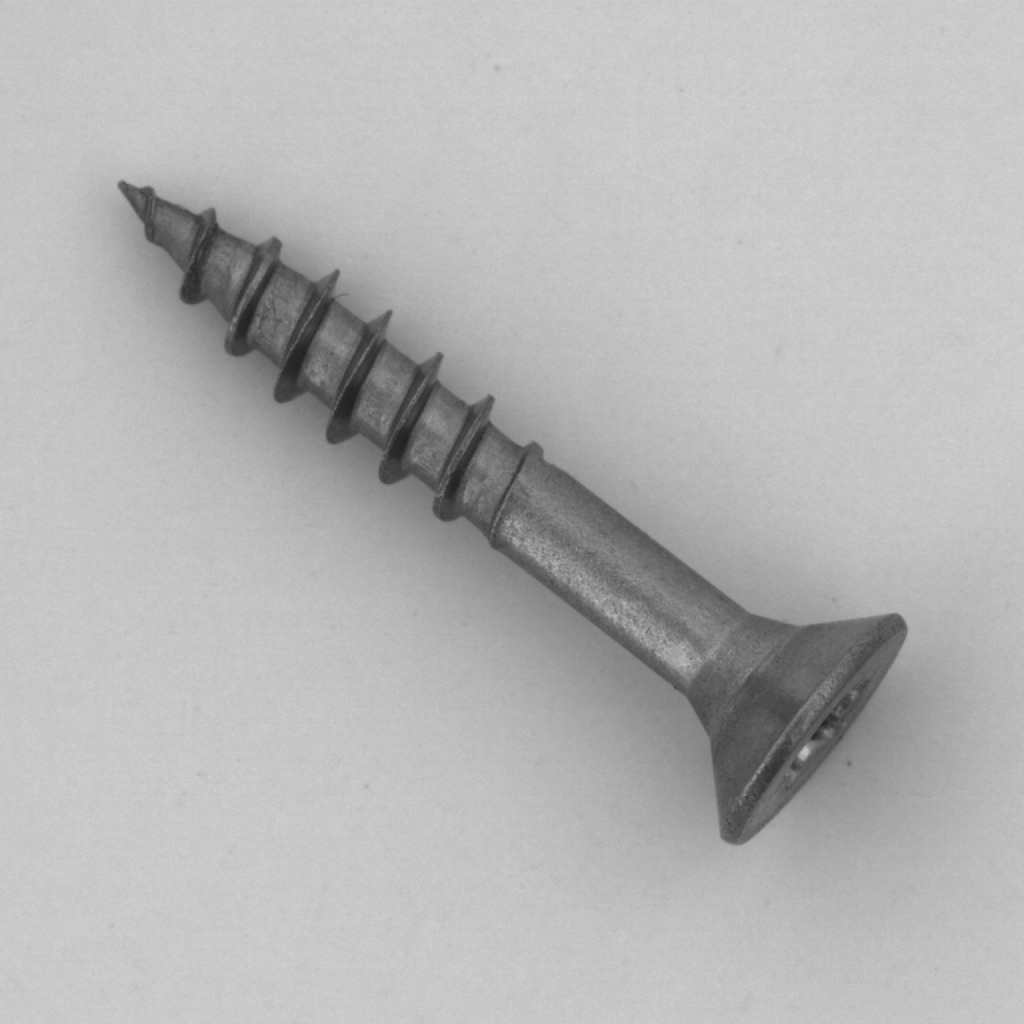good: (88, 154, 934, 860)
